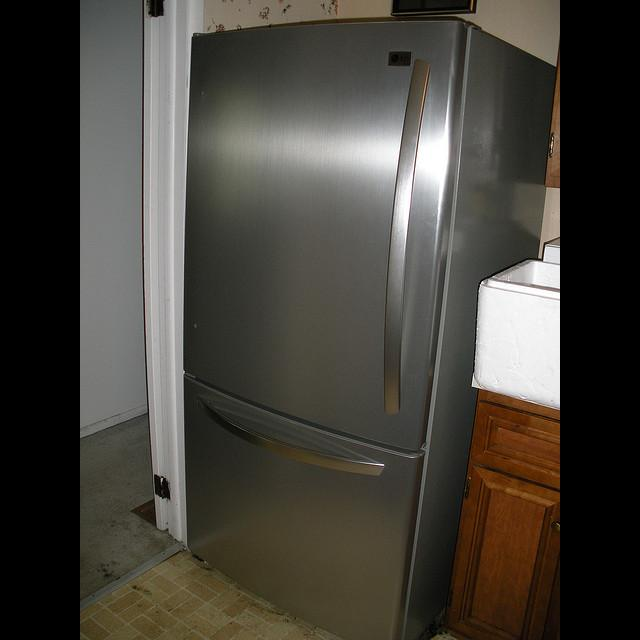Refrigerator: (191, 20, 555, 628)
